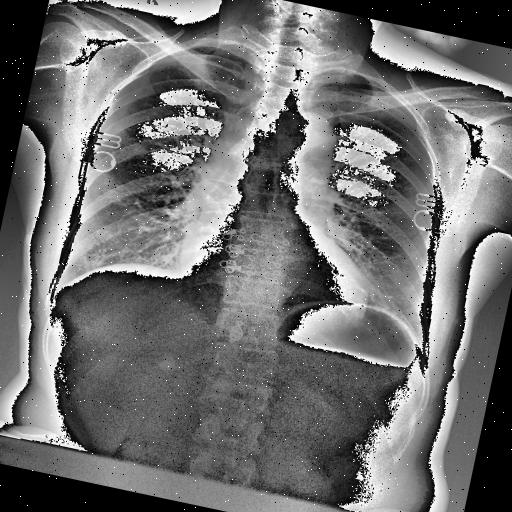0- Aortic enlargement: (272, 106, 338, 170), (286, 108, 342, 168), (289, 108, 341, 158)
3- Cardiomegaly: (174, 218, 376, 314), (174, 226, 378, 318)
